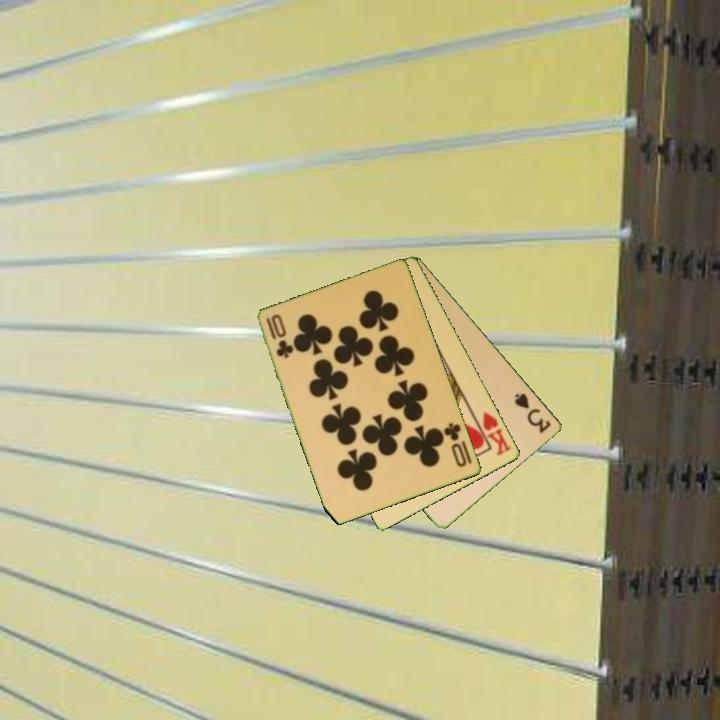10c: (263, 311, 295, 361), (440, 419, 470, 470)
3s: (511, 389, 554, 436)
Kh: (471, 408, 515, 459)
